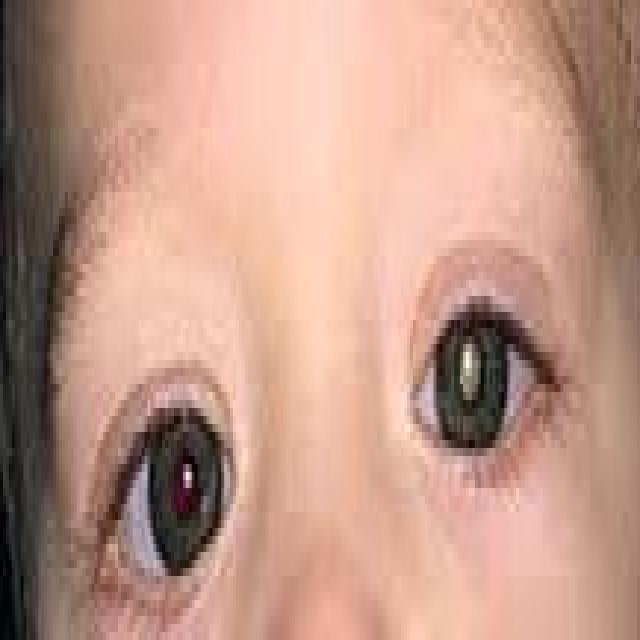reflexo-alterado: (122, 379, 244, 604), (402, 288, 530, 478)
